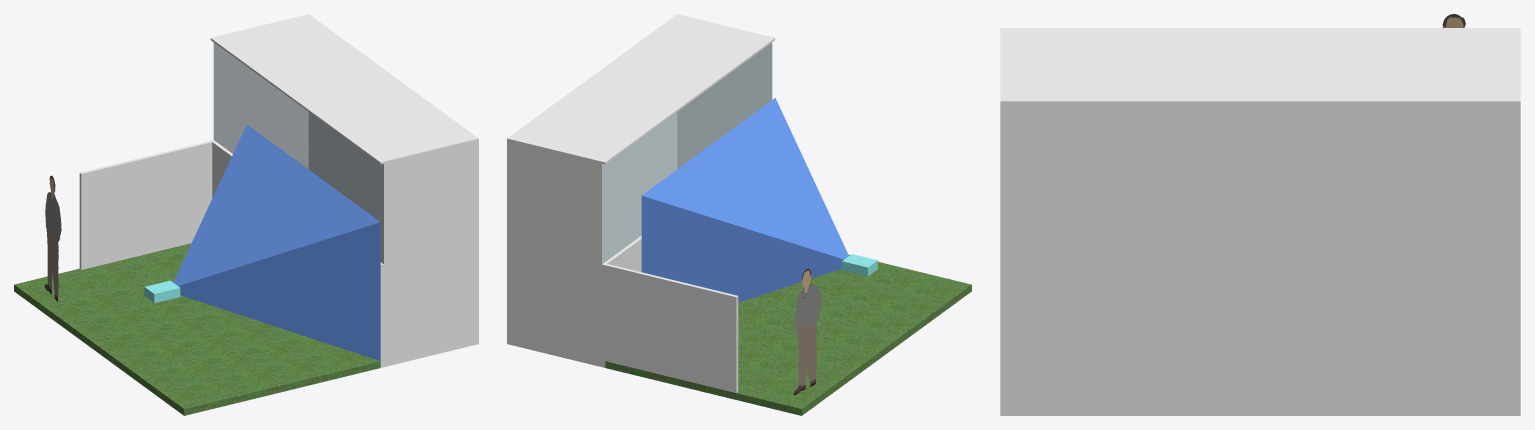
File: set6.obj
3 renders of one model, left to right at view 1: azimuth 30°, elevation 25°; view 2: azimuth 150°, elevation 25°; view 3: azimuth 270°, elevation 25°, orthographic. The views are drawn at different scales.
Parts seen in each view (by area): view 1: Mesh1 Componente_25_1 Componente_36_1 Model, Mesh3 Component_67_1 Component_66_1 Component_65_1 Componente_36, Mesh11 Componente_26_1 Componente_36_1 Model, Mesh13 Derrick1 Componente_36_1 Model, Mesh5 Component_6_1 Component_66_1 Component_65_1 Componente_36_; view 2: Mesh1 Componente_25_1 Componente_36_1 Model, Mesh3 Component_67_1 Component_66_1 Component_65_1 Componente_36, Mesh11 Componente_26_1 Componente_36_1 Model, Mesh13 Derrick1 Componente_36_1 Model, Mesh5 Component_6_1 Component_66_1 Component_65_1 Componente_36_; view 3: Mesh1 Componente_25_1 Componente_36_1 Model.
Part boxes in pixels (bbox=[...]): Mesh1 Componente_25_1 Componente_36_1 Model: bbox=[79, 14, 478, 367]; Mesh3 Component_67_1 Component_66_1 Component_65_1 Componente_36: bbox=[173, 124, 380, 360]; Mesh11 Componente_26_1 Componente_36_1 Model: bbox=[14, 243, 380, 415]; Mesh13 Derrick1 Componente_36_1 Model: bbox=[44, 175, 61, 301]; Mesh5 Component_6_1 Component_66_1 Component_65_1 Componente_36_: bbox=[144, 280, 180, 302]; Mesh1 Componente_25_1 Componente_36_1 Model: bbox=[507, 14, 775, 392]; Mesh3 Component_67_1 Component_66_1 Component_65_1 Componente_36: bbox=[641, 98, 848, 302]; Mesh11 Componente_26_1 Componente_36_1 Model: bbox=[605, 254, 971, 415]; Mesh13 Derrick1 Componente_36_1 Model: bbox=[793, 268, 821, 394]; Mesh5 Component_6_1 Component_66_1 Component_65_1 Componente_36_: bbox=[842, 254, 877, 276]; Mesh1 Componente_25_1 Componente_36_1 Model: bbox=[1000, 28, 1520, 415].
Size of the model in its own units: 4500 by 3000 by 4500.
